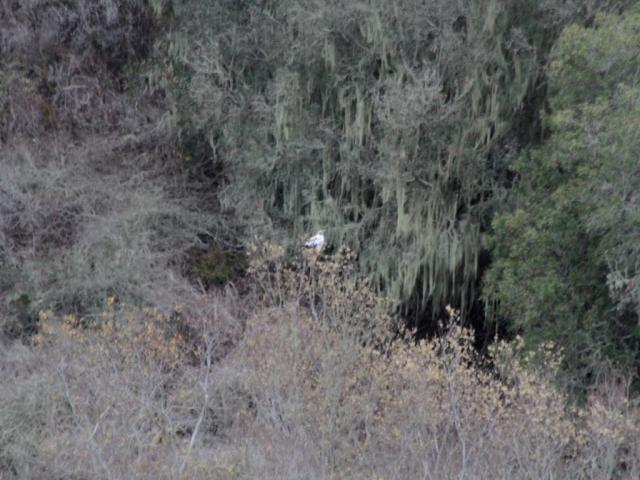Bird: (302, 230, 324, 260)
